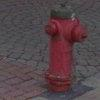a fire hydrant: (46, 13, 82, 92)
